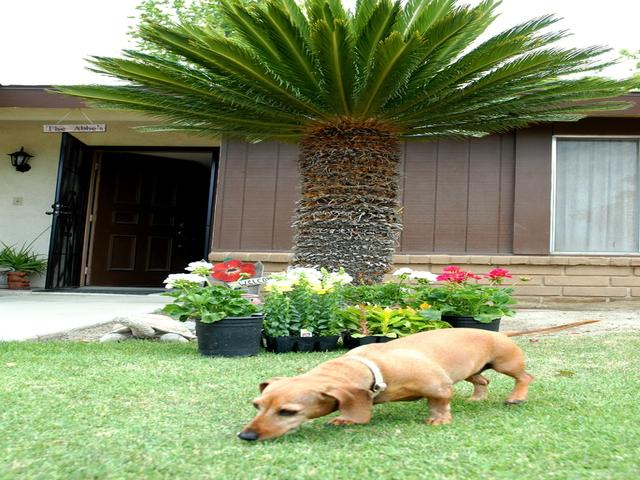dog: (212, 327, 571, 429)
